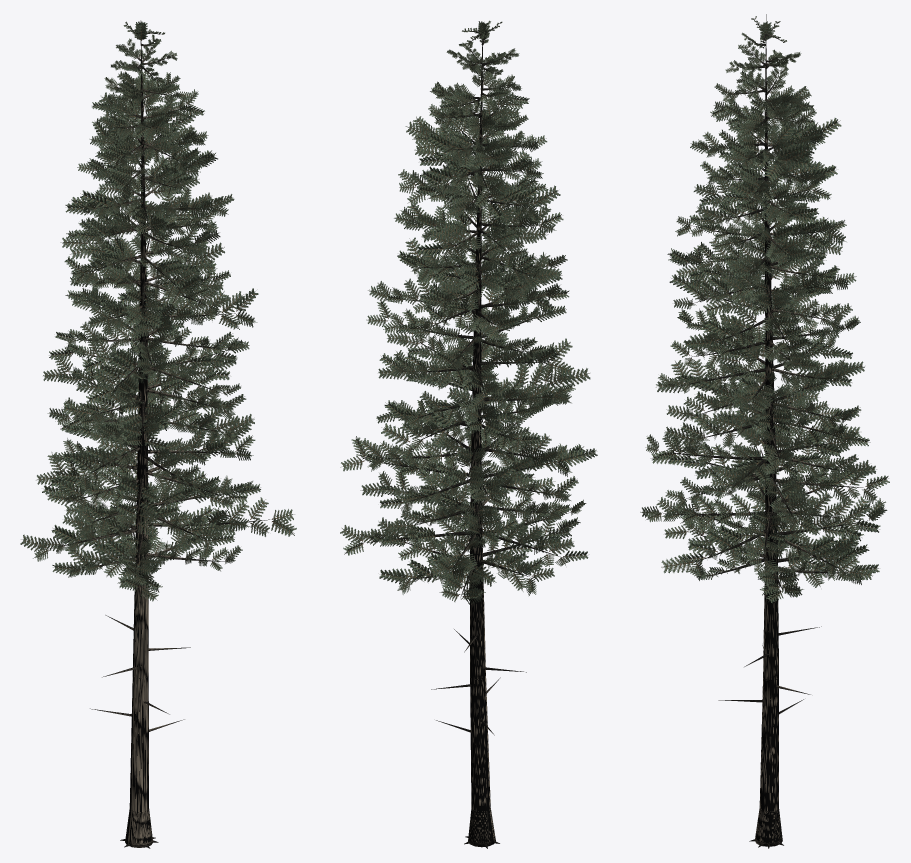
File: Sitka_OldLarge_01_Unpruned_LOD0.fbx
3 views of the same model, side by side, from view 1: azimuth 30°, elevation 25°; view 2: azimuth 150°, elevation 25°; view 3: azimuth 270°, elevation 25° (orthographic).
Parts seen in each view (by area): view 1: Sitka_OldLarge_01_Unpruned_LOD0; view 2: Sitka_OldLarge_01_Unpruned_LOD0; view 3: Sitka_OldLarge_01_Unpruned_LOD0.
Boxes of the visible parts, x1,y1,x2,y2 form: Sitka_OldLarge_01_Unpruned_LOD0: [20, 20, 296, 848]; Sitka_OldLarge_01_Unpruned_LOD0: [340, 20, 597, 848]; Sitka_OldLarge_01_Unpruned_LOD0: [640, 14, 889, 848].
Size of the model in its own units: 963 by 3200 by 927.
2 materials, 2 textured.
